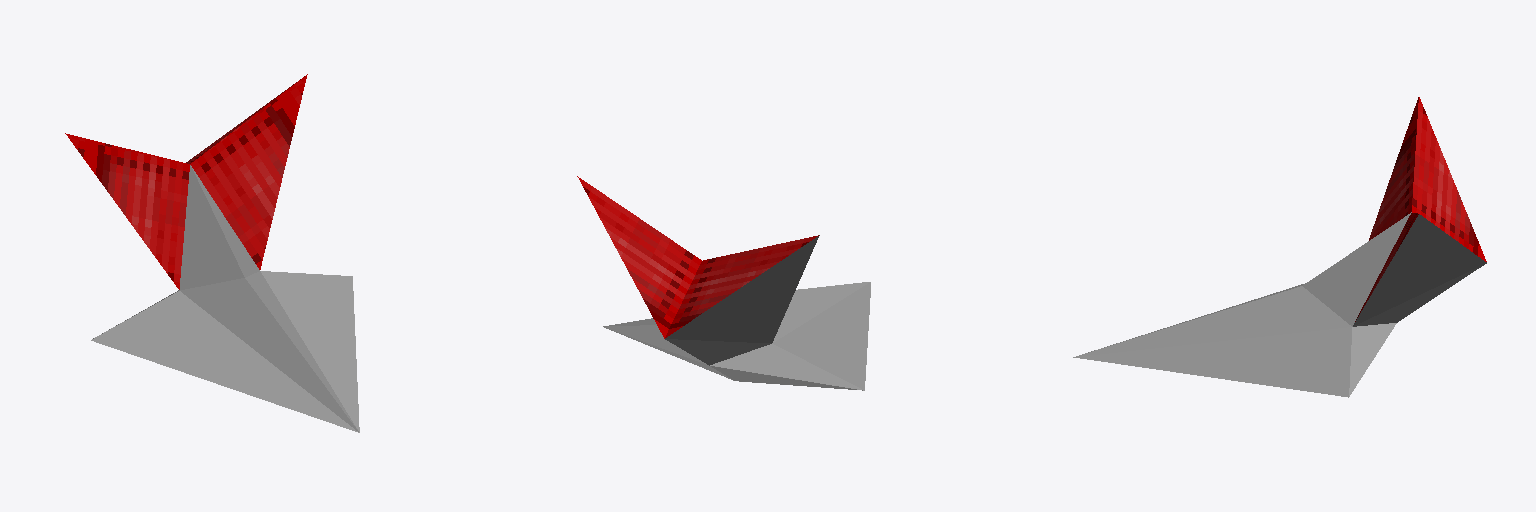
3 renders of one model, left to right at view 1: azimuth 30°, elevation 25°; view 2: azimuth 150°, elevation 25°; view 3: azimuth 270°, elevation 25°, orthographic.
Visible parts, largest first — view 1: silver_ID35, red_ID71, orange_ID62, black_ID80; view 2: red_ID71, silver_ID35, cyan_ID44, orange_ID62, light_ID53; view 3: silver_ID35, red_ID71, orange_ID62, cyan_ID44, black_ID80.
Part boxes in pixels (x1,y1,x2,y2): silver_ID35: (91, 271, 359, 432); red_ID71: (65, 74, 307, 289); orange_ID62: (180, 271, 358, 431); black_ID80: (179, 165, 259, 290); red_ID71: (577, 176, 818, 338); silver_ID35: (603, 282, 870, 390); cyan_ID44: (665, 235, 819, 343); orange_ID62: (773, 282, 869, 342); light_ID53: (606, 328, 862, 390); silver_ID35: (1073, 263, 1486, 397); red_ID71: (1355, 97, 1486, 321); orange_ID62: (1076, 286, 1351, 356); cyan_ID44: (1353, 214, 1486, 325); black_ID80: (1303, 212, 1411, 326).
Size of the model in its own units: 0.7688 by 0.5669 by 1.05.
6 materials, 1 textured.